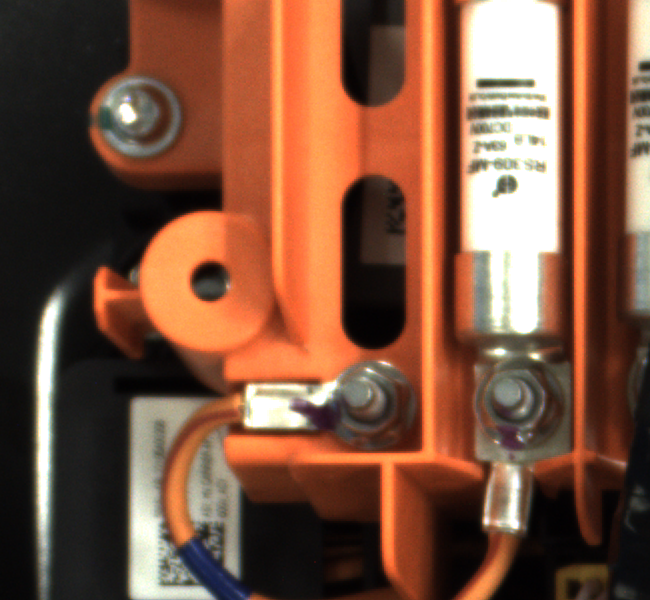screw_m: (85, 63, 195, 160)
screw_s: (472, 358, 570, 463), (309, 352, 409, 446)
